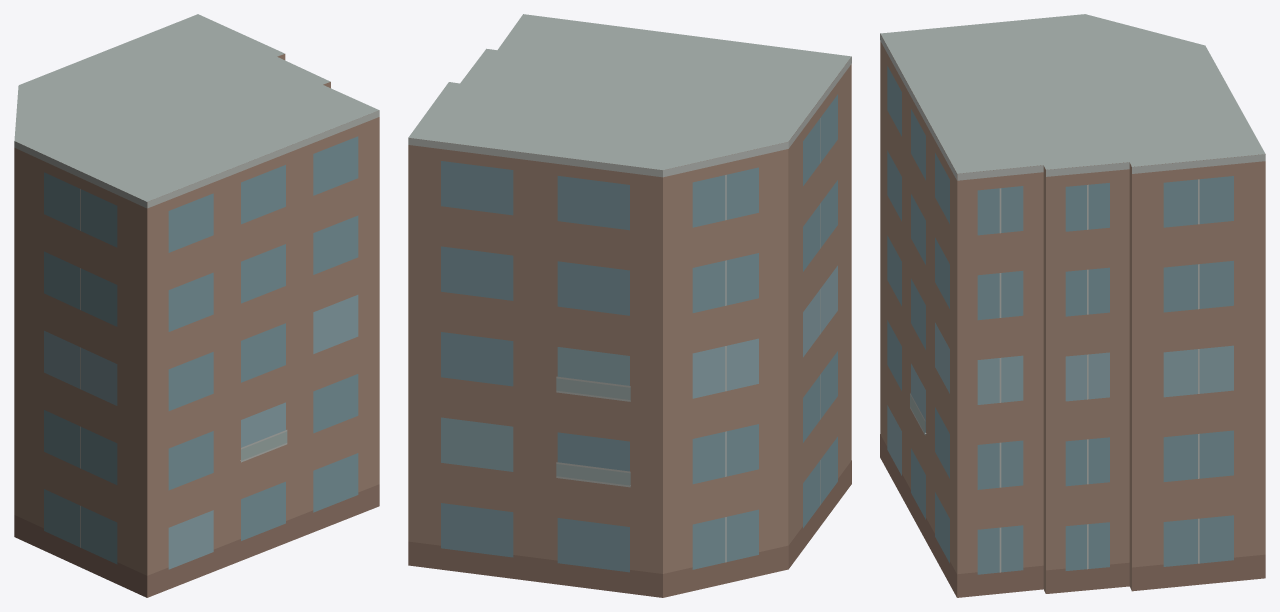
File: survey-upis-32597398.glb
3 renders of one model, left to right at view 1: azimuth 30°, elevation 25°; view 2: azimuth 150°, elevation 25°; view 3: azimuth 270°, elevation 25°, orthographic. The views are drawn at different scales.
Parts seen in each view (by area): view 1: survey-upis-32597398.tmp; view 2: survey-upis-32597398.tmp; view 3: survey-upis-32597398.tmp.
Part boxes in pixels (x1,y1,x2,y2): survey-upis-32597398.tmp: (14, 14, 379, 597); survey-upis-32597398.tmp: (408, 14, 851, 597); survey-upis-32597398.tmp: (880, 14, 1265, 597).
Bounding box in the file's own units: 11.8 × 14.6 × 12.03.
